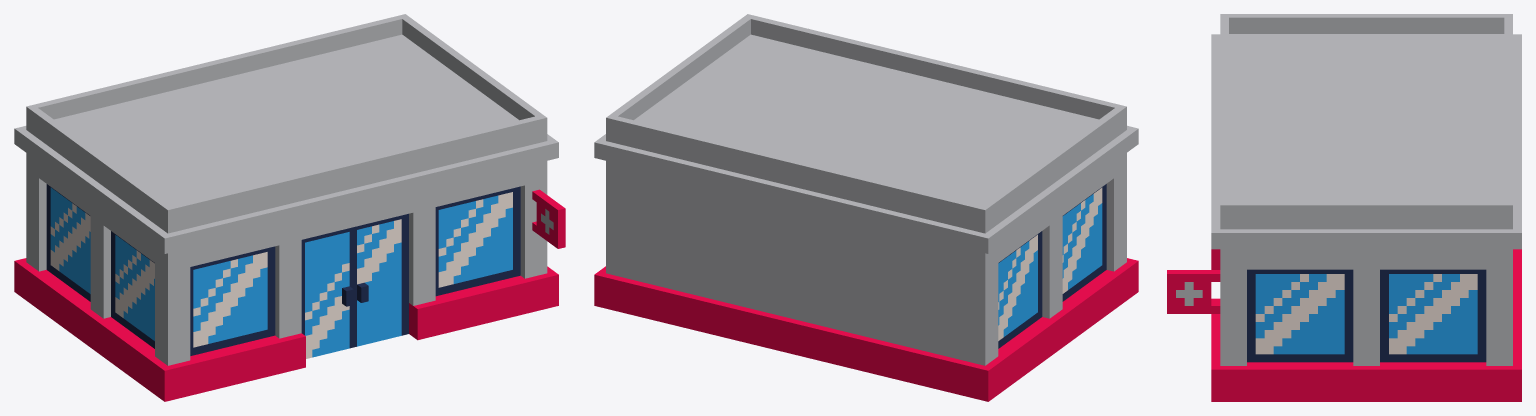
The model's file is pharmacy_a.obj.
The picture shows the model from 3 angles, left to right: view 1: azimuth 30°, elevation 25°; view 2: azimuth 150°, elevation 25°; view 3: azimuth 270°, elevation 25°; orthographic projection. The views are drawn at different scales.
Size of the model in its own units: 5.3 by 2.4 by 4.
1 material, 1 textured.
